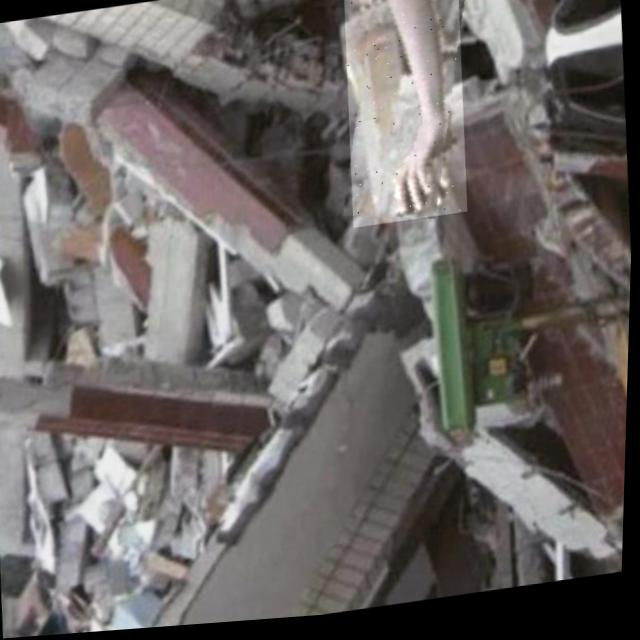Person in Rubble: (336, 0, 474, 233)
